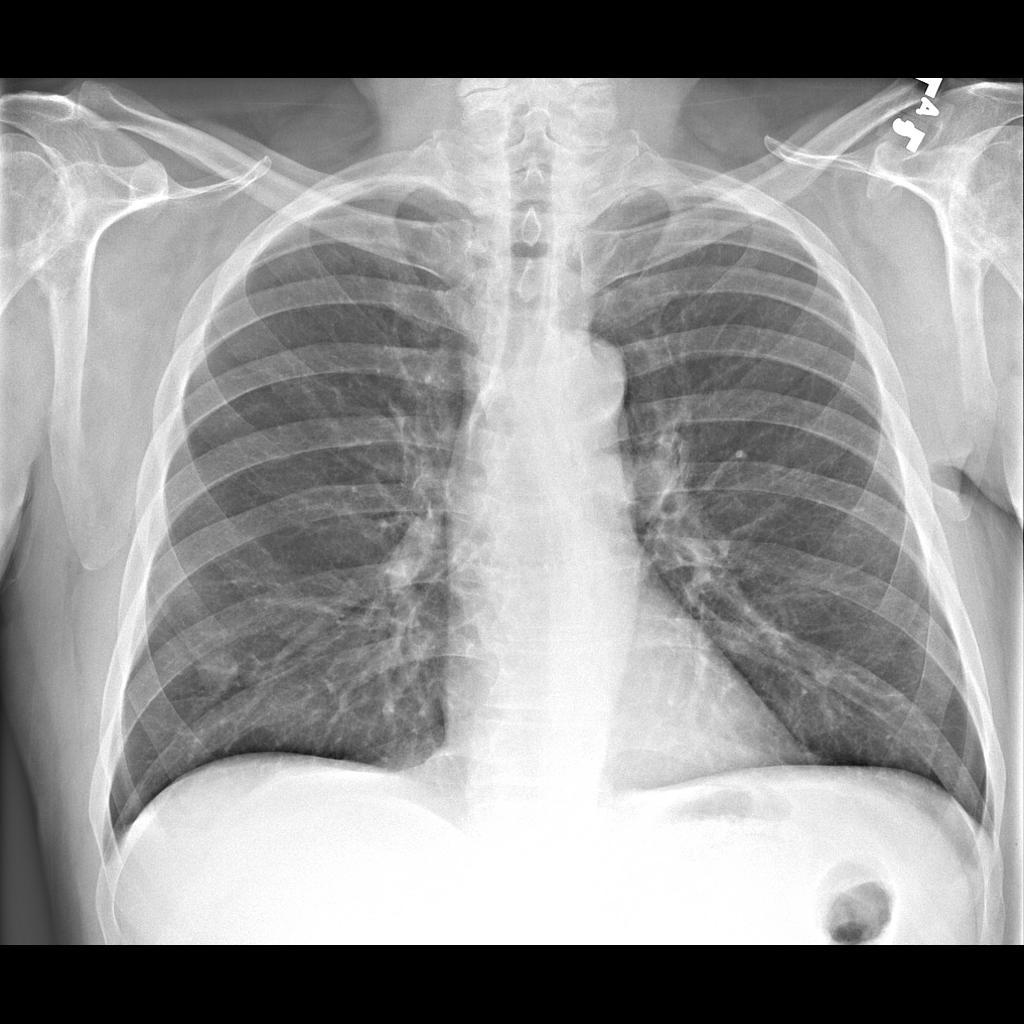Nodule: (186, 646, 258, 701)
